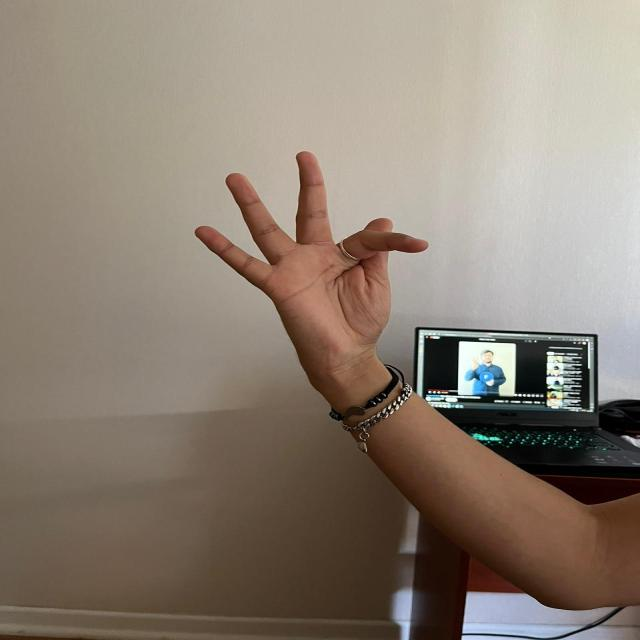F: (185, 149, 434, 359)
